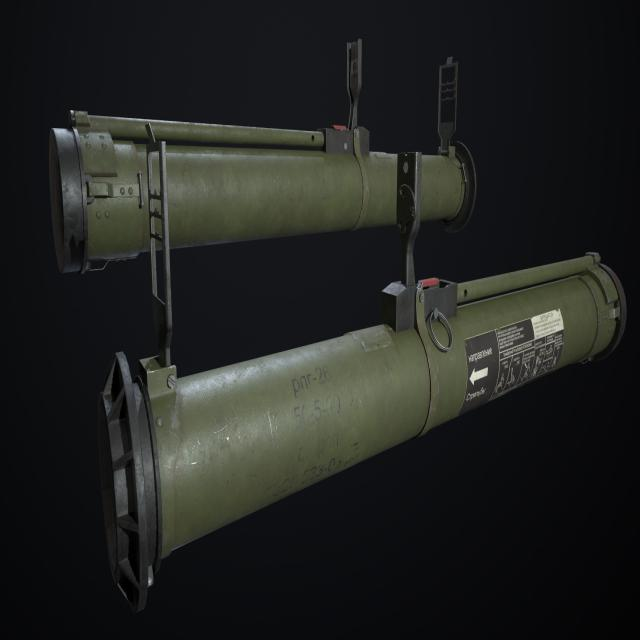bazooka: (29, 27, 621, 605)
